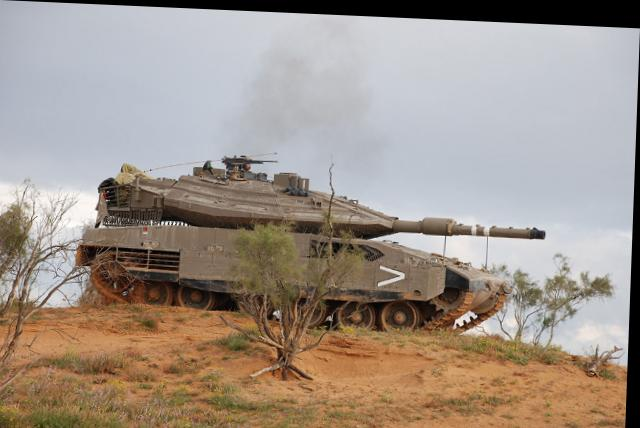tank: (74, 145, 519, 330)
